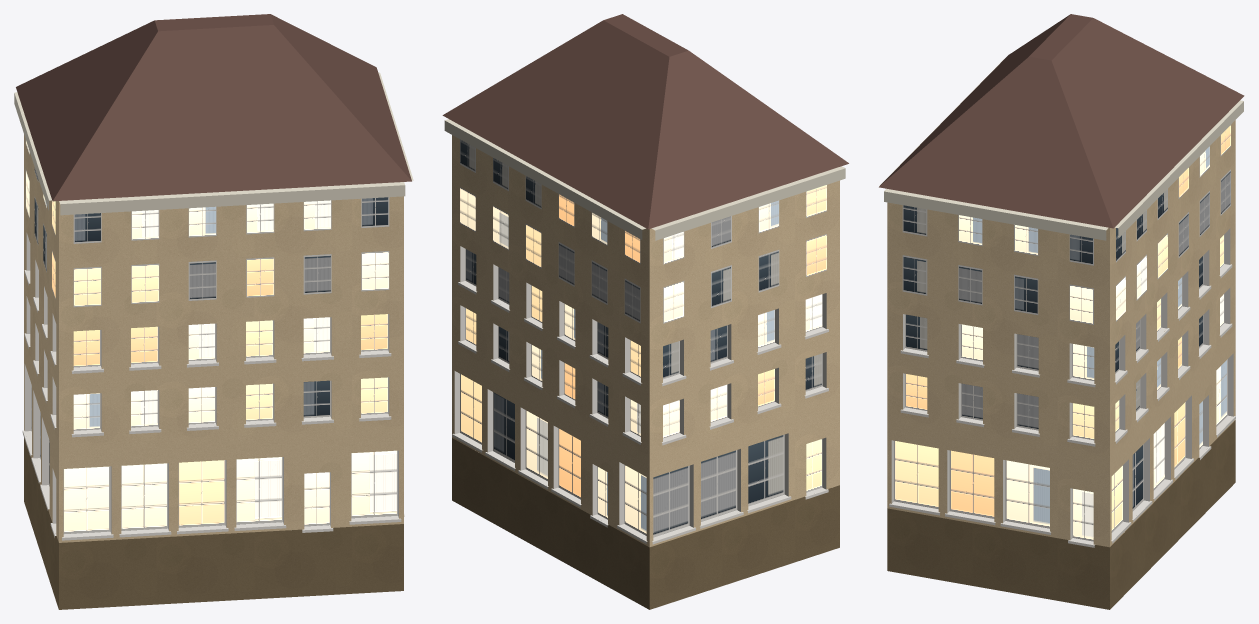
File: z3c_hb_peach.glb
The picture shows the model from 3 angles, left to right: view 1: azimuth 30°, elevation 25°; view 2: azimuth 150°, elevation 25°; view 3: azimuth 270°, elevation 25°; orthographic projection. The views are drawn at different scales.
Visible parts, largest first — view 1: z3c_hb_peach; view 2: z3c_hb_peach; view 3: z3c_hb_peach.
Boxes of the visible parts, x1,y1,x2,y2 form: z3c_hb_peach: (14, 14, 413, 609); z3c_hb_peach: (442, 14, 848, 609); z3c_hb_peach: (879, 14, 1244, 609).
Size of the model in its own units: 17.82 by 23.45 by 15.9.
Materials: 3 (3 with a texture image).
